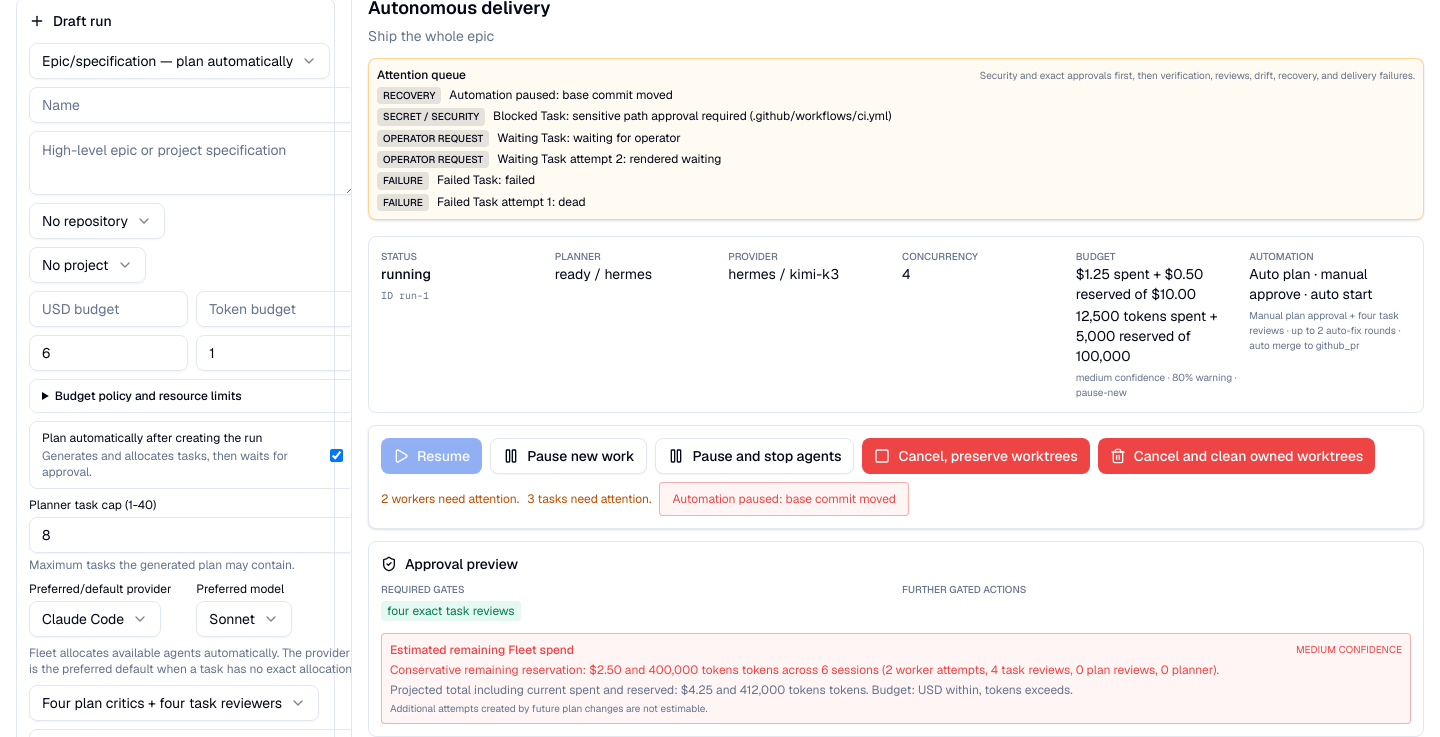
Test: FleetManagementView status drilldowns › requires a repository or project for imported plans even with automation off
Step 1. Click the dropdown named "Fleet input mode" → (180, 61), box top-left (29, 43), bottom-right (330, 79)
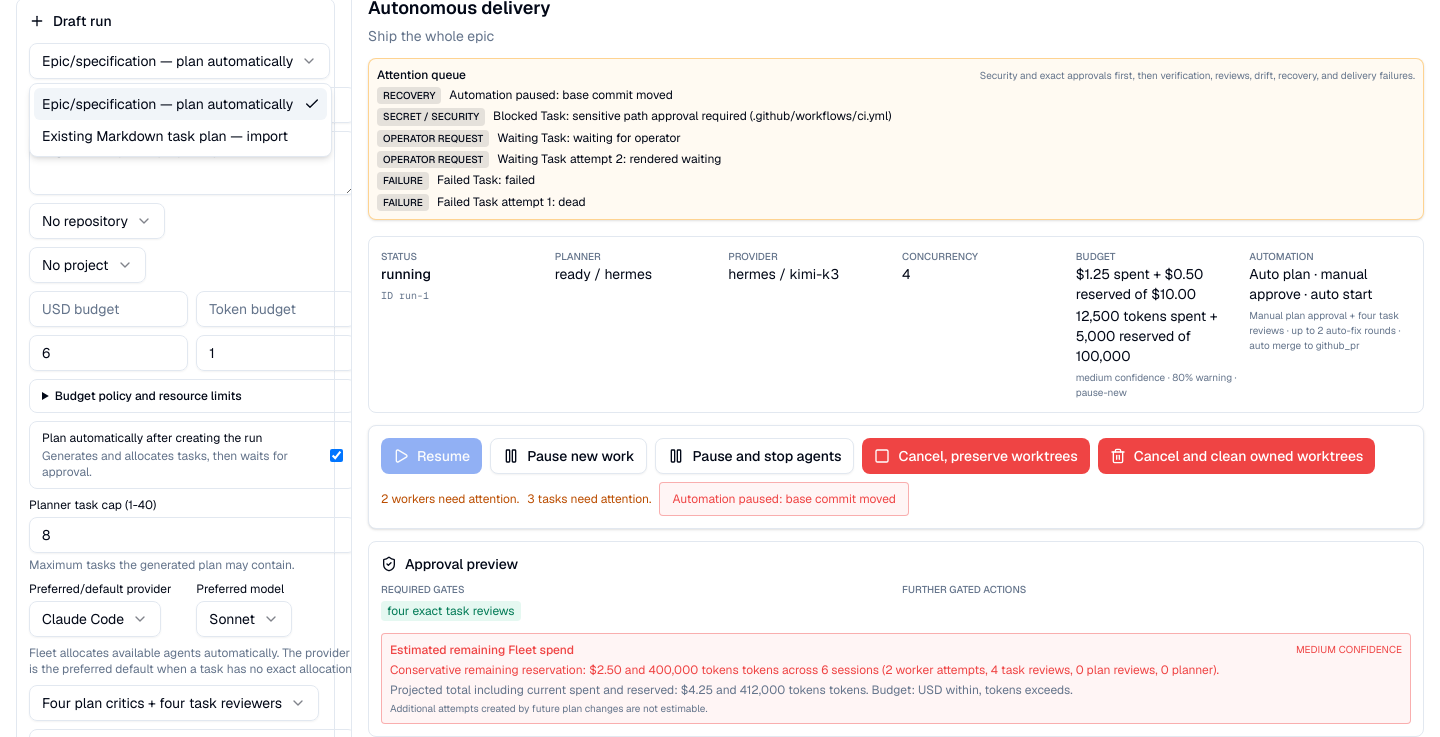
Step 2. Click the option "Existing Markdown task plan — import" → (165, 136), box top-left (42, 127), bottom-right (288, 145)
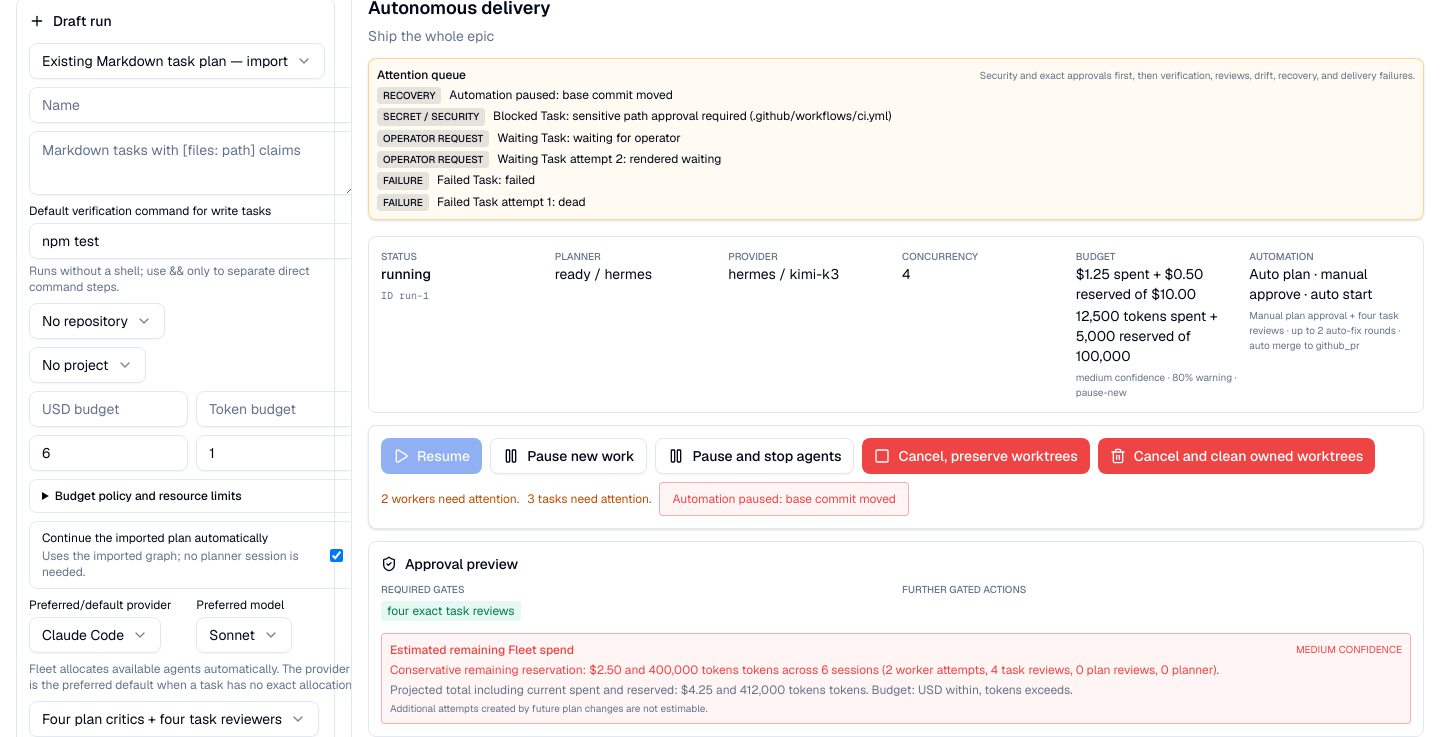
Step 3. Click the checkbox labelled "plan automatically" → (336, 555), box top-left (330, 548), bottom-right (342, 562)
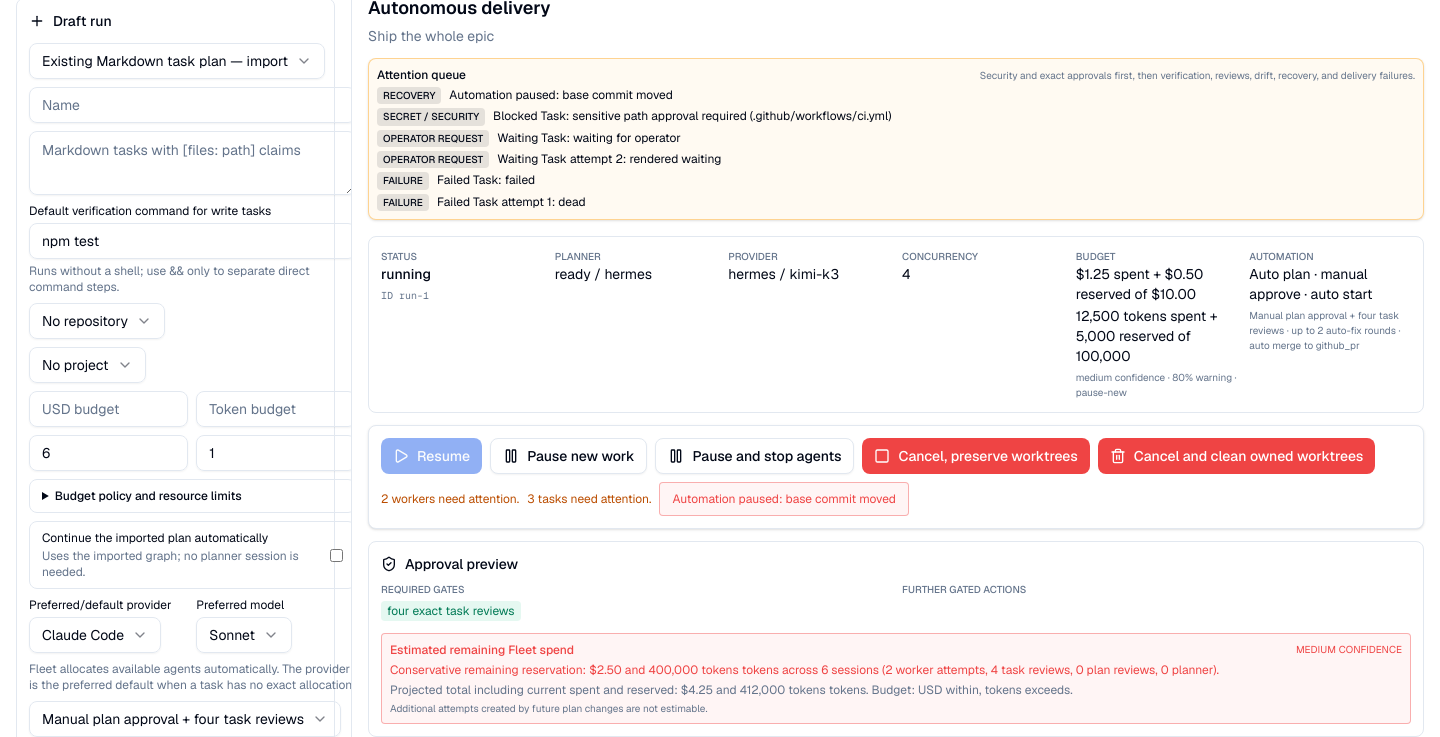
Step 4. Type "Imported manual plan" into the field named "Fleet run name" → (192, 105), box top-left (29, 87), bottom-right (356, 123)
Step 5. Type "- [ ] Implement the bound task" into the text box named "Fleet task plan" → (192, 163), box top-left (29, 131), bottom-right (356, 195)
Step 6. Click the dropdown labelled "repository" → (97, 321), box top-left (29, 303), bottom-right (165, 339)
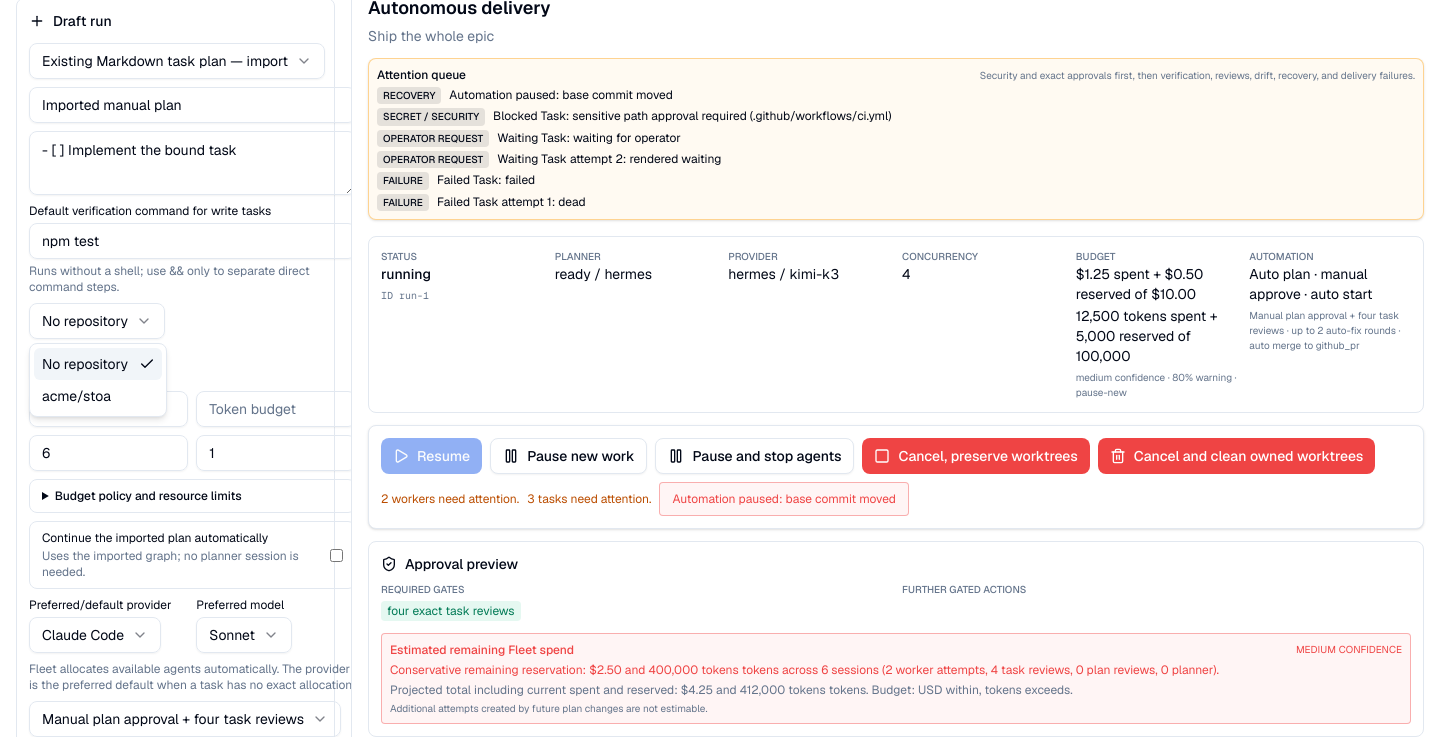
Step 7. Click the option "acme/stoa" → (76, 396), box top-left (42, 387), bottom-right (111, 405)
(page scrolled)
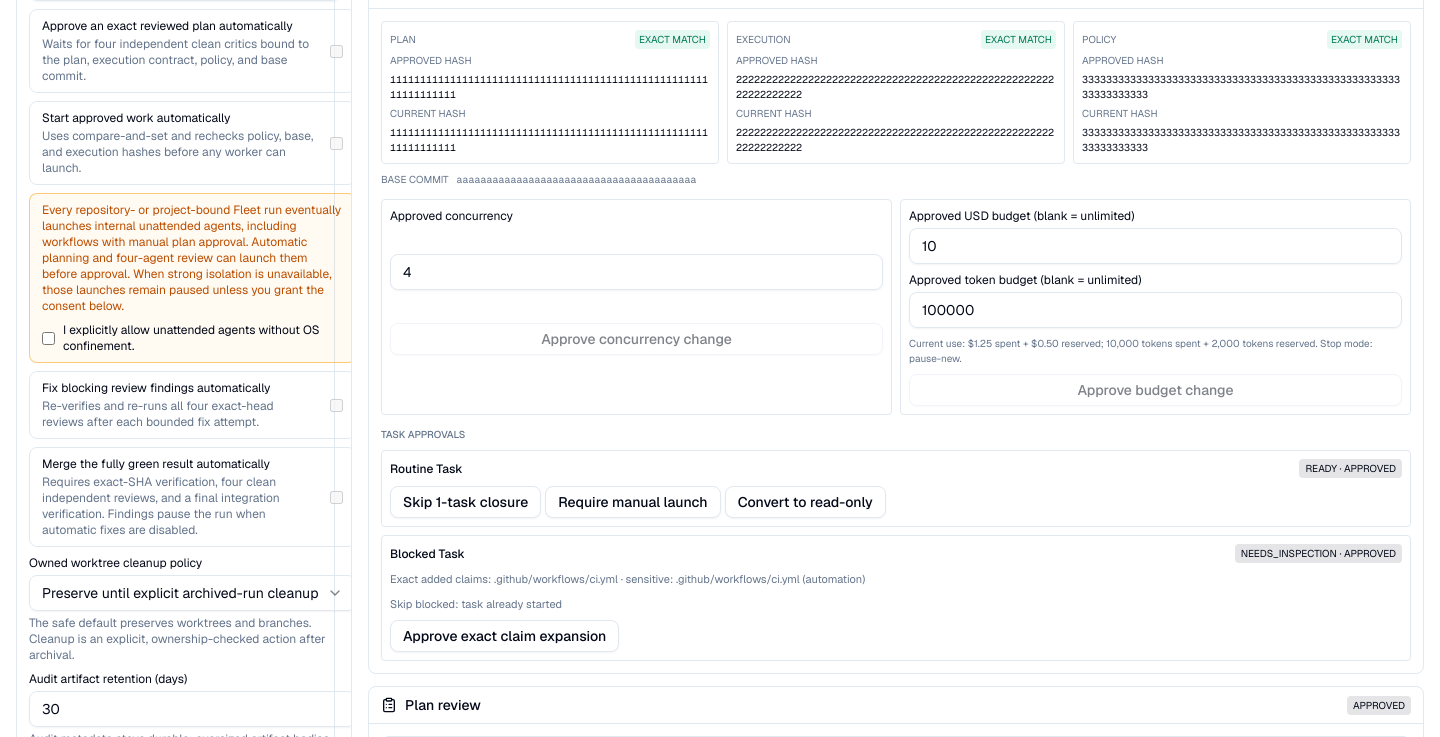
Step 8. Click the checkbox named "Allow unconfined unattended agents" → (48, 338), box top-left (42, 332), bottom-right (55, 344)
(page scrolled)
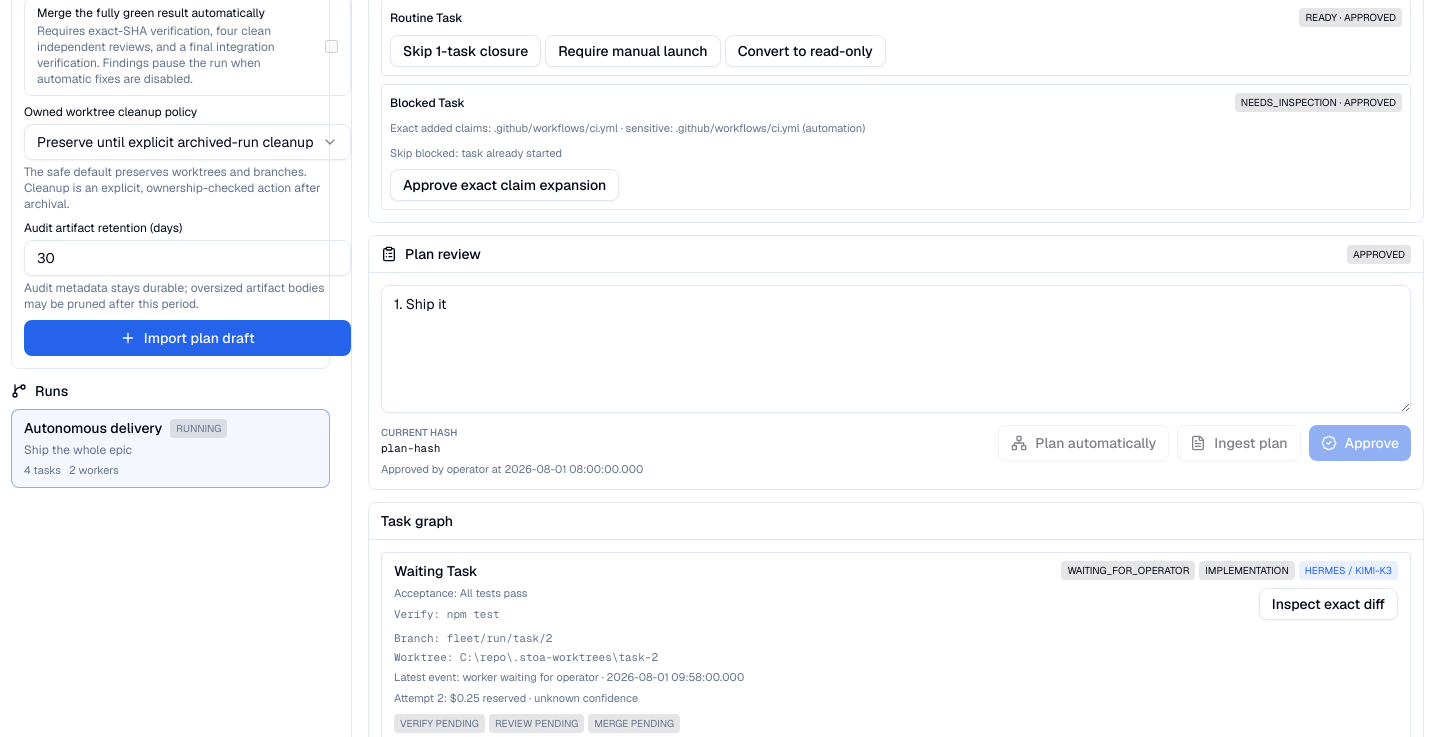
Expected: the button "Import plan draft" is enabled, top-left (24, 320), bottom-right (350, 356)
